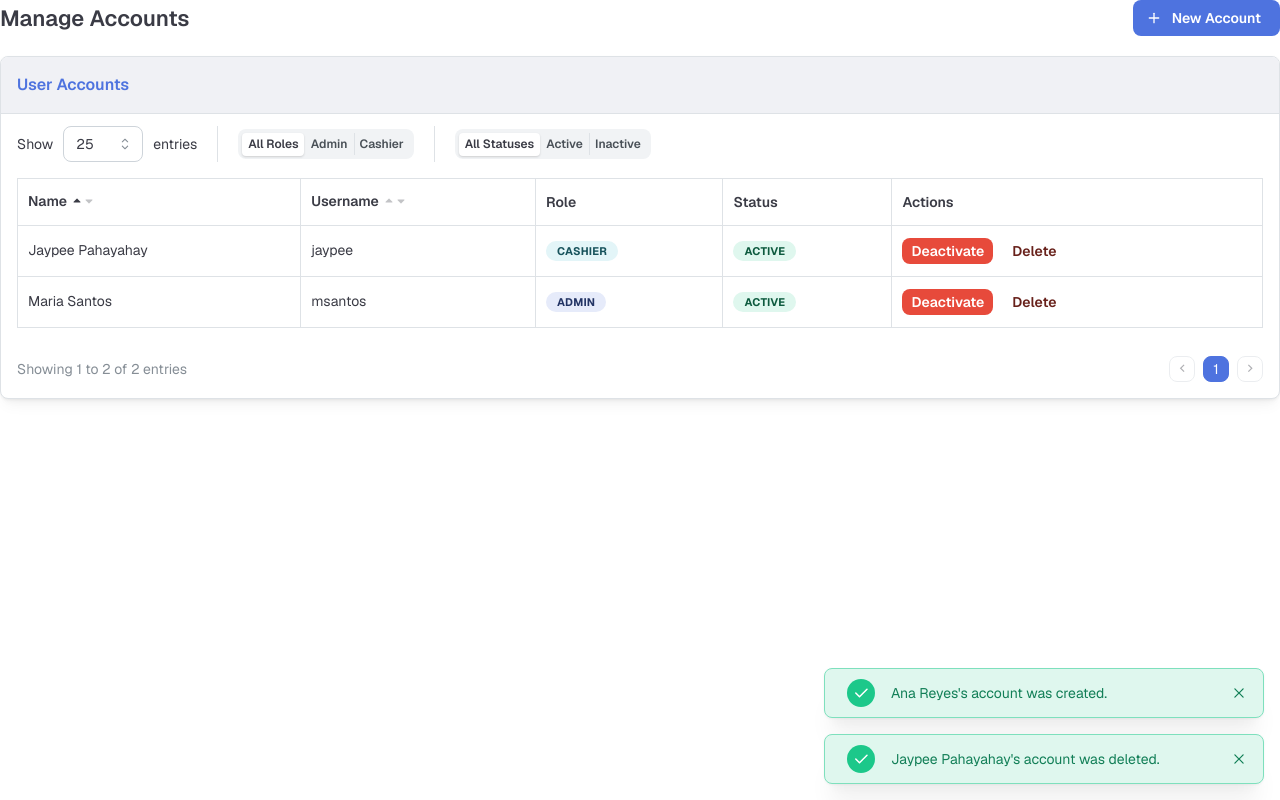
Test case: ManageAccountsPage › states the server's refusal as given and leaves the account in the list
Check: the text "Jaypee Pahayahay" is shown, box [18,225,301,276]
Click the 1st button "Delete" at (1034, 251), box [1003,238,1066,264]
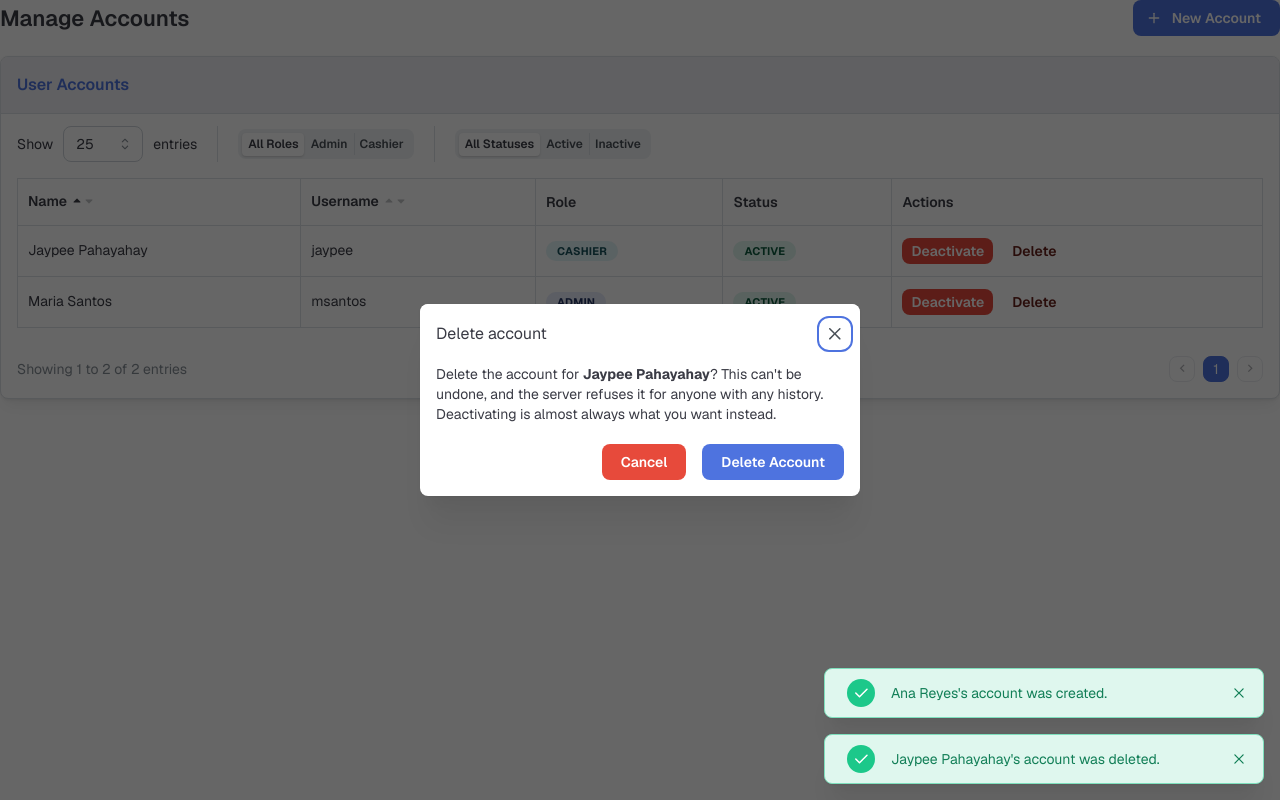
Check: the button "Delete Account" is shown
Click the button "Delete Account" at (773, 462), box [702,444,844,480]
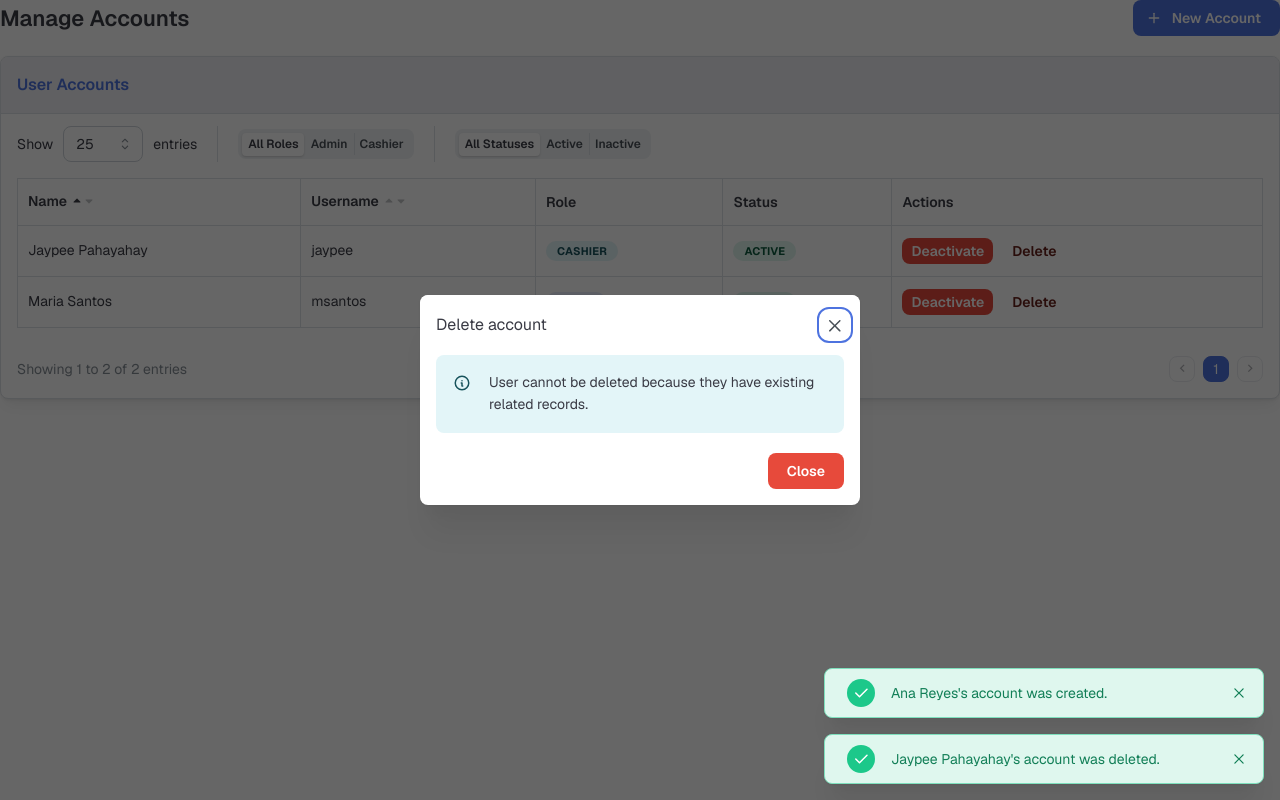
Check: the text "Jaypee Pahayahay" is shown, box [18,225,301,276]
Check: the text "User cannot be deleted because they have existing related records." is shown, box [489,372,827,416]
